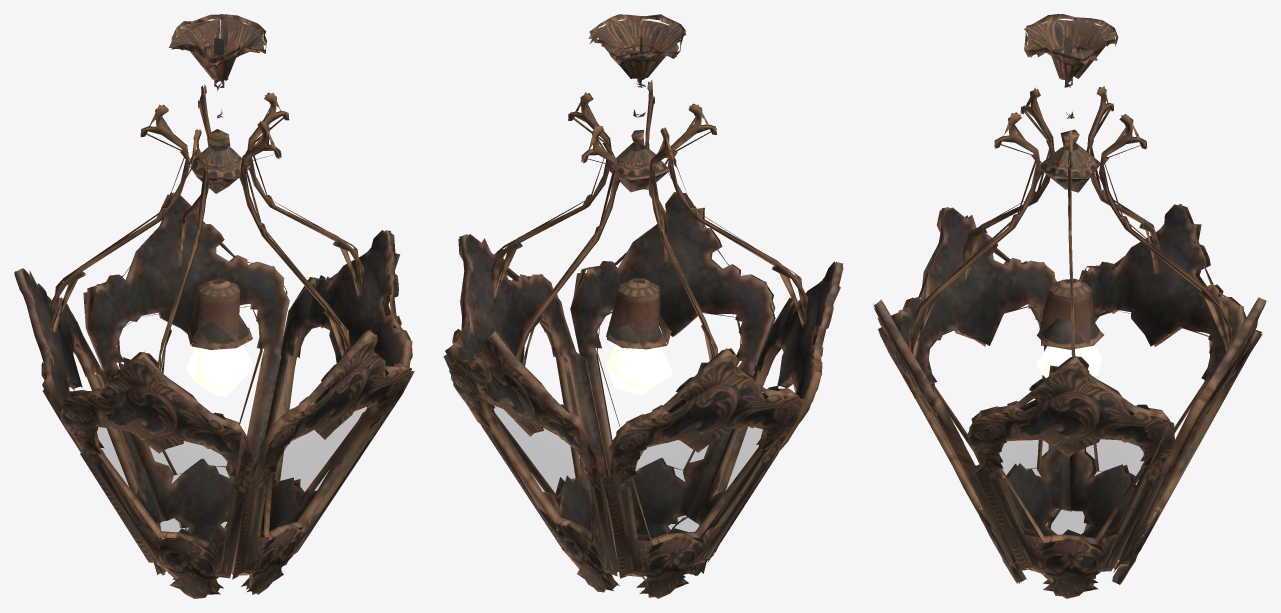
File: chandelier.glb
The picture shows the model from 3 angles, left to right: view 1: azimuth 30°, elevation 25°; view 2: azimuth 150°, elevation 25°; view 3: azimuth 270°, elevation 25°; orthographic projection.
Visible parts, largest first — view 1: lantern_chandelier_01; view 2: lantern_chandelier_01; view 3: lantern_chandelier_01.
Boxes of the visible parts, box(x1,y1,x2,y2) form: lantern_chandelier_01: box(14, 14, 414, 598); lantern_chandelier_01: box(443, 14, 843, 598); lantern_chandelier_01: box(873, 14, 1266, 598).
Size of the model in its own units: 0.5953 by 0.9 by 0.5885.
Materials: 3 (2 with a texture image).
